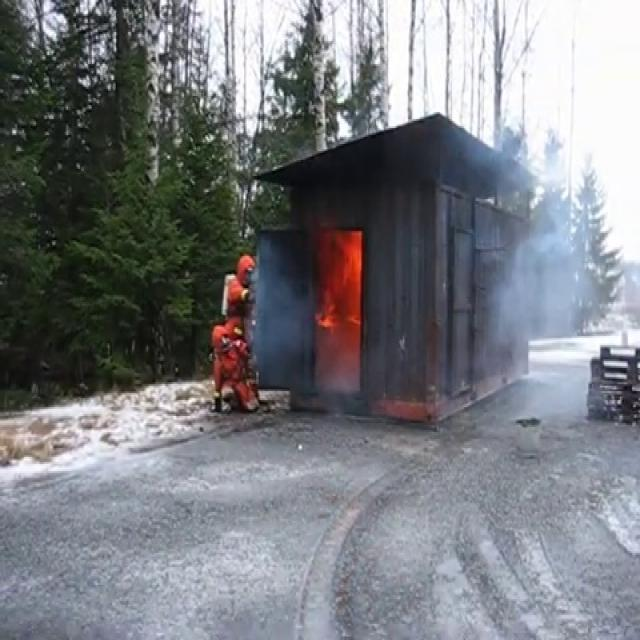Smoke: (457, 136, 640, 452)
